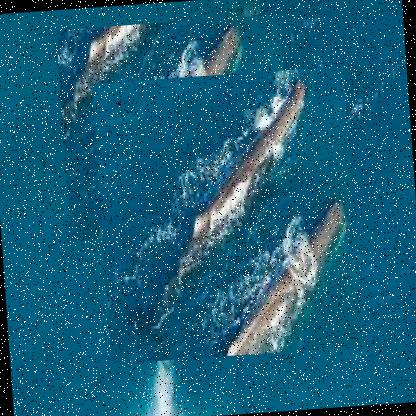sperm_whale: (91, 65, 363, 364), (56, 14, 294, 240)
